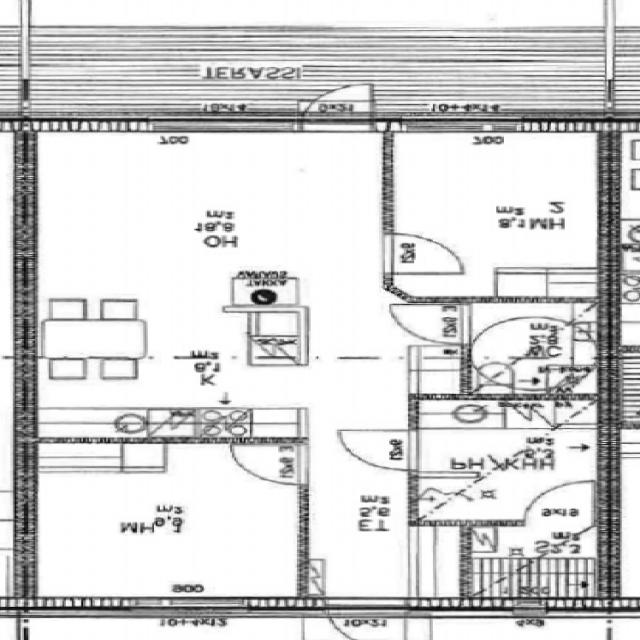door: (301, 71, 374, 132), (329, 596, 407, 640), (383, 233, 464, 273), (394, 305, 474, 344), (229, 444, 307, 484), (527, 481, 595, 526), (342, 430, 420, 468)
